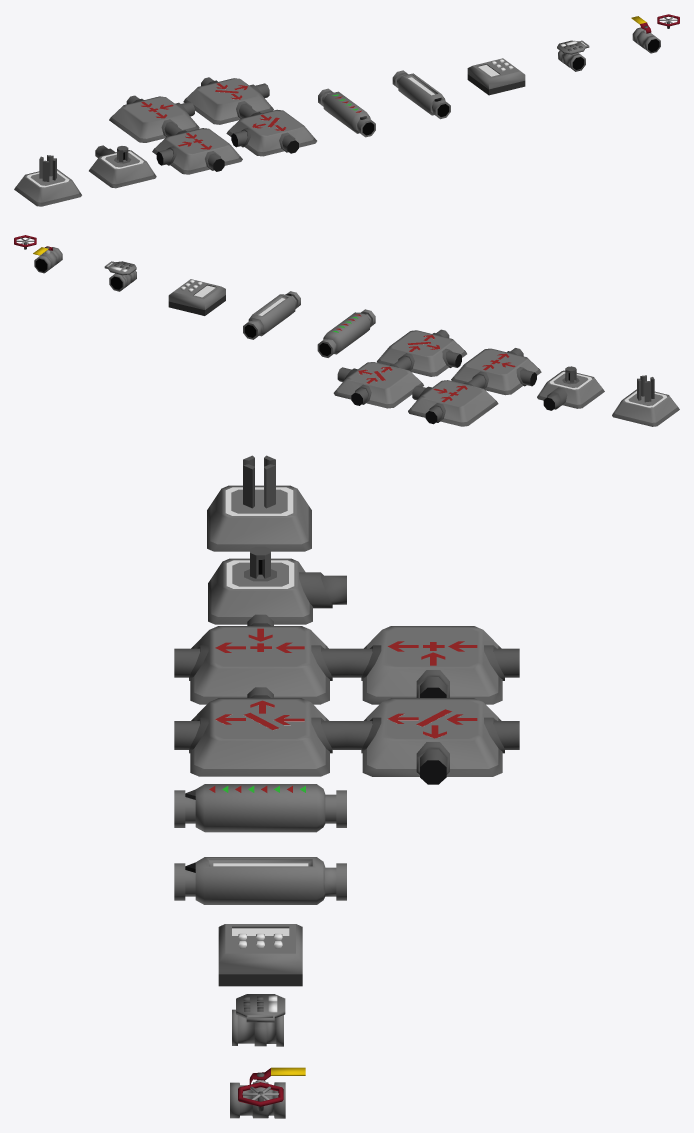
File: Pipe Pumps, Valves, Filters, Mixers, Etc.fbx
3 renders of one model, top to bottom at view 1: azimuth 30°, elevation 25°; view 2: azimuth 150°, elevation 25°; view 3: azimuth 270°, elevation 25°, orthographic. The views are drawn at different scales.
Visible parts, largest first — view 1: Mixer_Right, Filter_Right, Mixer_Left, Filter_Left, Ignitor, Injector, Meter_Indicator, Pump_Volume, Pump_Gas, Digital_Valve, Manual_Valve; view 2: Mixer_Left, Filter_Left, Mixer_Right, Filter_Right, Ignitor, Injector, Meter_Indicator, Pump_Gas, Pump_Volume, Digital_Valve, Manual_Valve; view 3: Filter_Right, Filter_Left, Mixer_Right, Mixer_Left, Injector, Pump_Gas, Pump_Volume, Ignitor, Meter_Indicator, Digital_Valve, Manual_Valve.
Boxes of the visible parts, <box> form: Mixer_Right: <box>152,127,242,174</box>; Filter_Right: <box>226,109,316,156</box>; Mixer_Left: <box>109,95,199,142</box>; Filter_Left: <box>183,77,273,124</box>; Ignitor: <box>14,155,81,206</box>; Injector: <box>89,145,156,188</box>; Meter_Indicator: <box>467,58,525,95</box>; Pump_Volume: <box>392,70,450,119</box>; Pump_Gas: <box>318,88,375,137</box>; Digital_Valve: <box>557,40,589,71</box>; Manual_Valve: <box>632,27,660,53</box>; Mixer_Left: <box>408,379,498,426</box>; Filter_Left: <box>333,361,423,408</box>; Mixer_Right: <box>451,348,541,395</box>; Filter_Right: <box>377,329,466,376</box>; Ignitor: <box>612,375,679,426</box>; Injector: <box>537,366,604,410</box>; Meter_Indicator: <box>168,279,225,315</box>; Pump_Gas: <box>317,309,375,357</box>; Pump_Volume: <box>243,291,300,339</box>; Digital_Valve: <box>104,261,136,291</box>; Manual_Valve: <box>34,247,62,273</box>; Filter_Right: <box>174,687,346,776</box>; Filter_Left: <box>347,698,519,784</box>; Mixer_Right: <box>174,614,346,704</box>; Mixer_Left: <box>347,626,519,704</box>; Injector: <box>208,546,346,624</box>; Pump_Gas: <box>174,784,346,832</box>; Pump_Volume: <box>174,857,346,904</box>; Ignitor: <box>207,455,311,551</box>; Meter_Indicator: <box>218,924,302,986</box>; Digital_Valve: <box>232,994,285,1046</box>; Manual_Valve: <box>230,1080,285,1118</box>.
Bounding box in the file's own units: 8.76 × 0.475 × 2.
